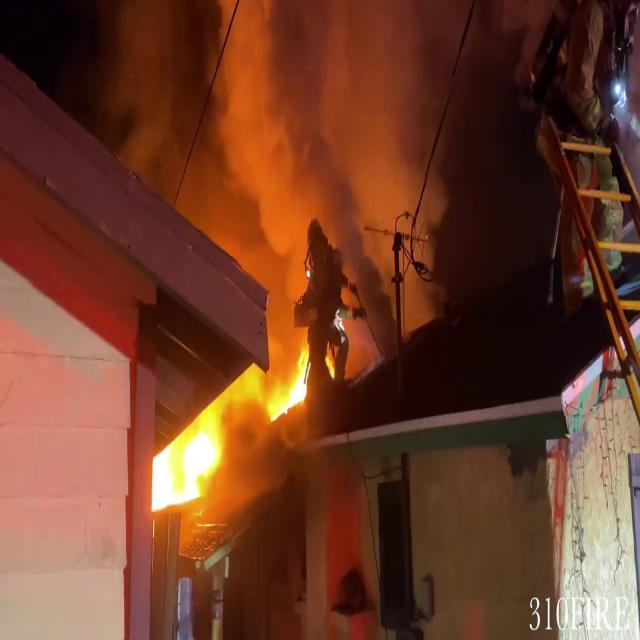Fire: (144, 402, 224, 522), (268, 331, 314, 429)
Smoke: (86, 0, 504, 306)
